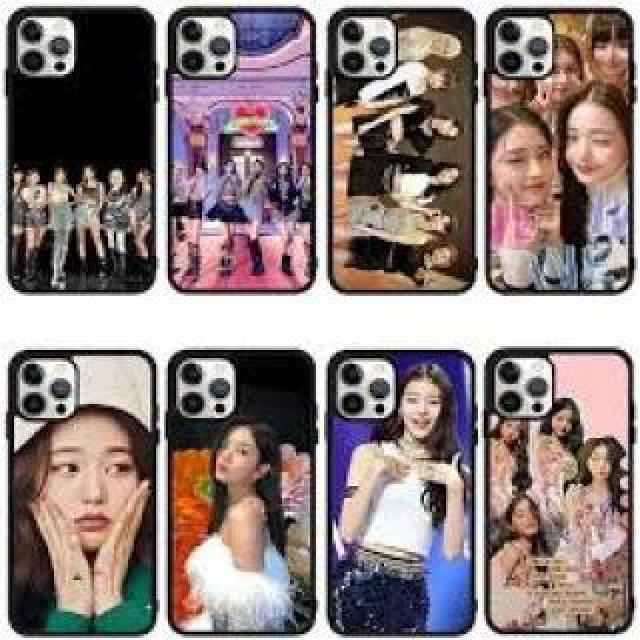smart phone: (5, 3, 170, 312), (0, 334, 168, 622), (324, 2, 474, 316), (183, 338, 332, 638), (498, 326, 638, 640), (170, 3, 318, 300), (342, 333, 476, 637), (493, 10, 627, 305)
